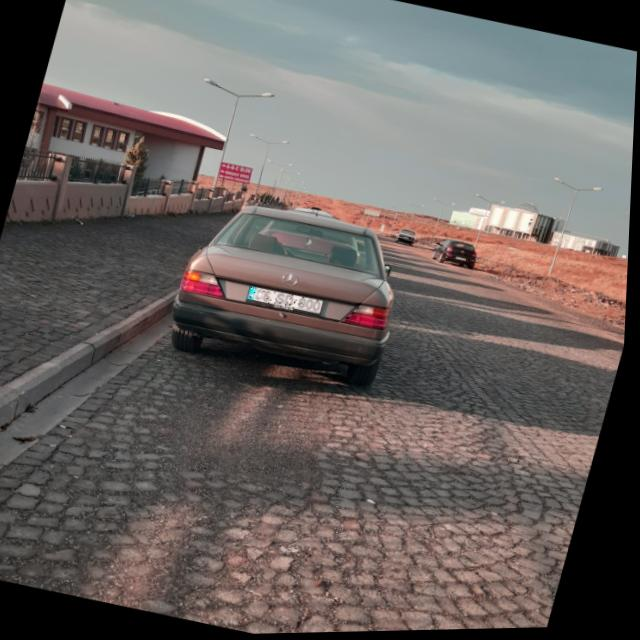license_plate: (249, 285, 326, 316)
